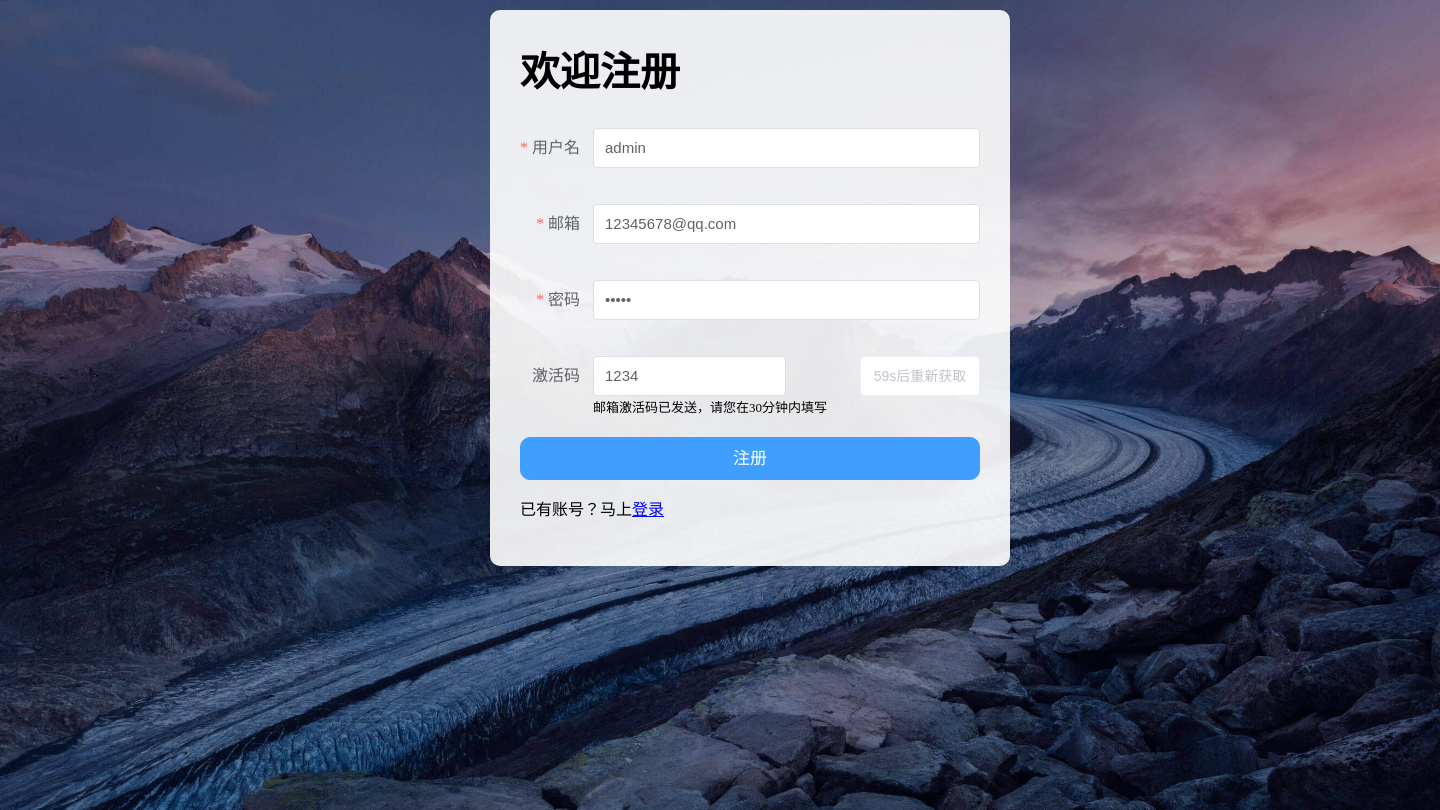
Register › 用户名已存在
This screenshot has width=1440, height=810.
Step 1. Click the button "注册" → (750, 458), box [520,437,980,480]
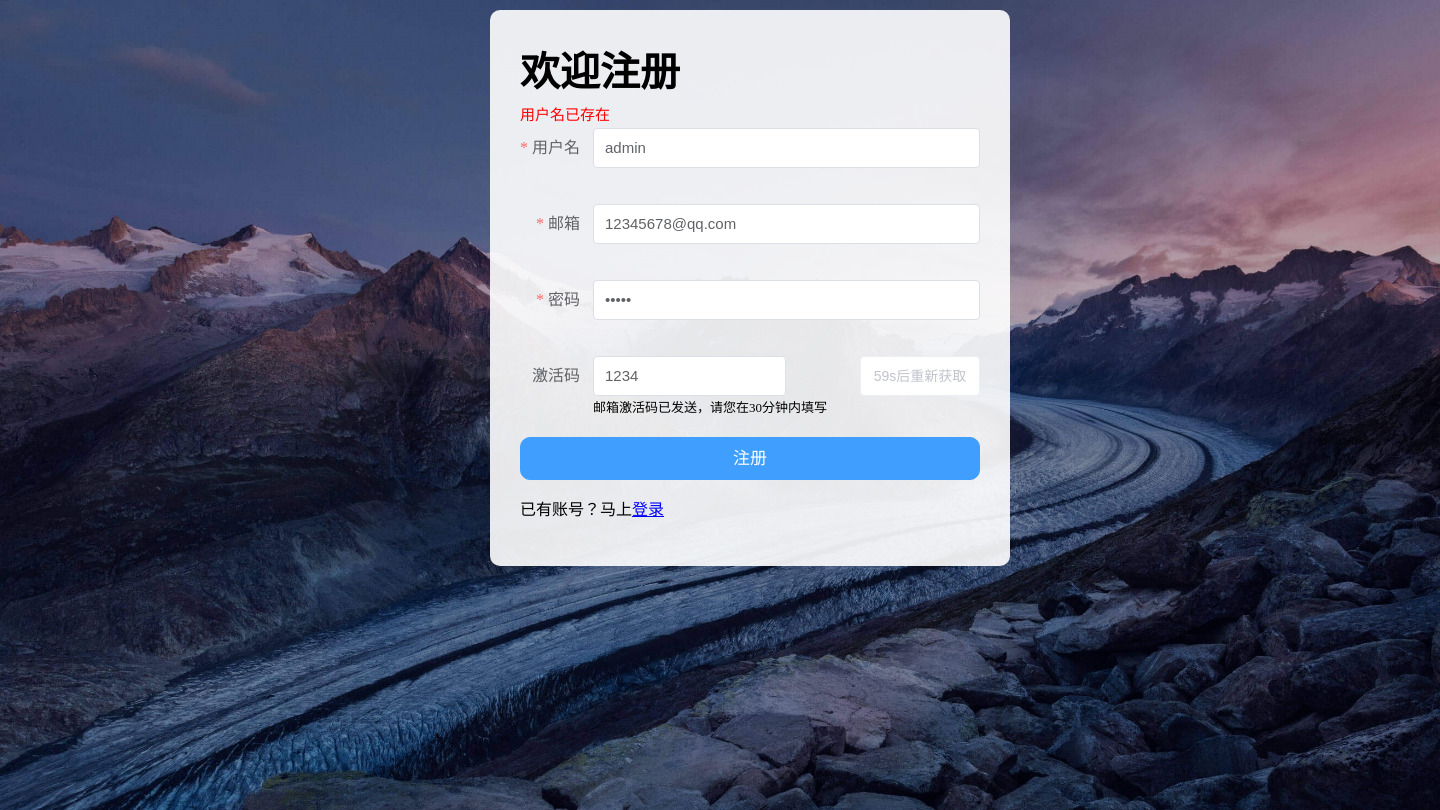
Result: the text with class "header-error" reads "用户名已存在" at [520,107,610,123]
